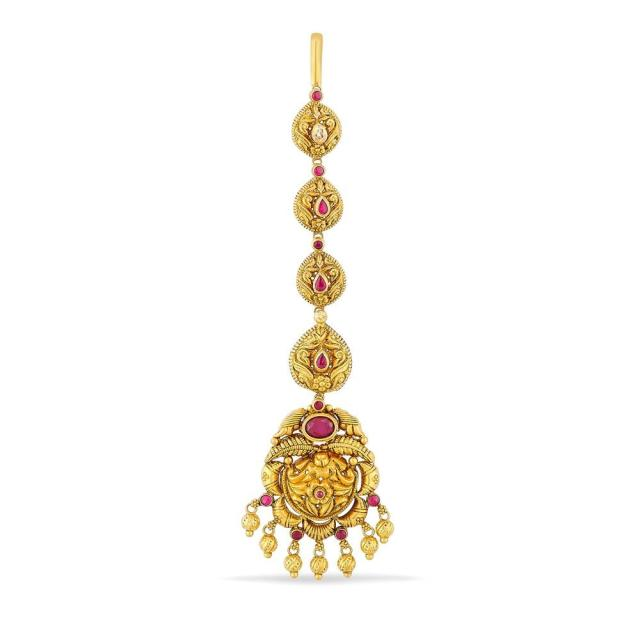missing gem: (312, 123, 328, 144), (314, 310, 328, 323)
